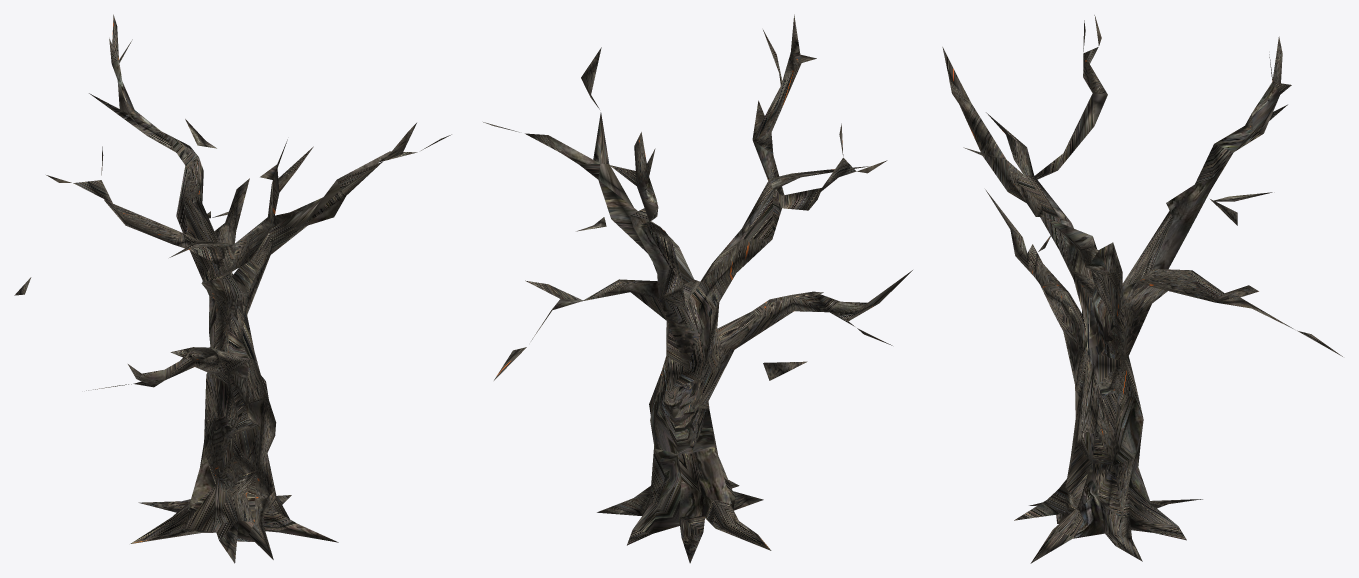
File: tree_dead.glb
3 views of the same model, side by side, from view 1: azimuth 30°, elevation 25°; view 2: azimuth 150°, elevation 25°; view 3: azimuth 270°, elevation 25° (orthographic). The views are drawn at different scales.
Parts seen in each view (by area): view 1: tree_dead; view 2: tree_dead; view 3: tree_dead.
Part boxes in pixels (bbox=[...]): tree_dead: bbox=[14, 14, 451, 563]; tree_dead: bbox=[483, 14, 912, 563]; tree_dead: bbox=[942, 15, 1342, 563].
Size of the model in its own units: 0.7924 by 0.8625 by 0.6606.
1 material, 1 textured.
